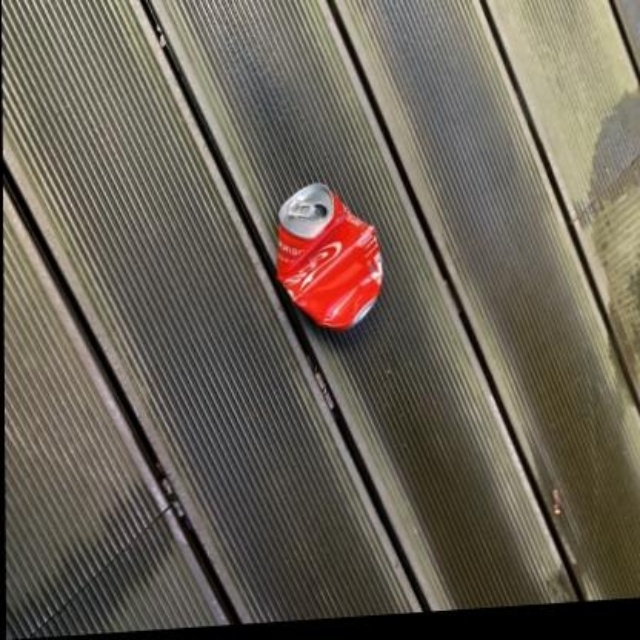trash: (277, 183, 382, 329)
